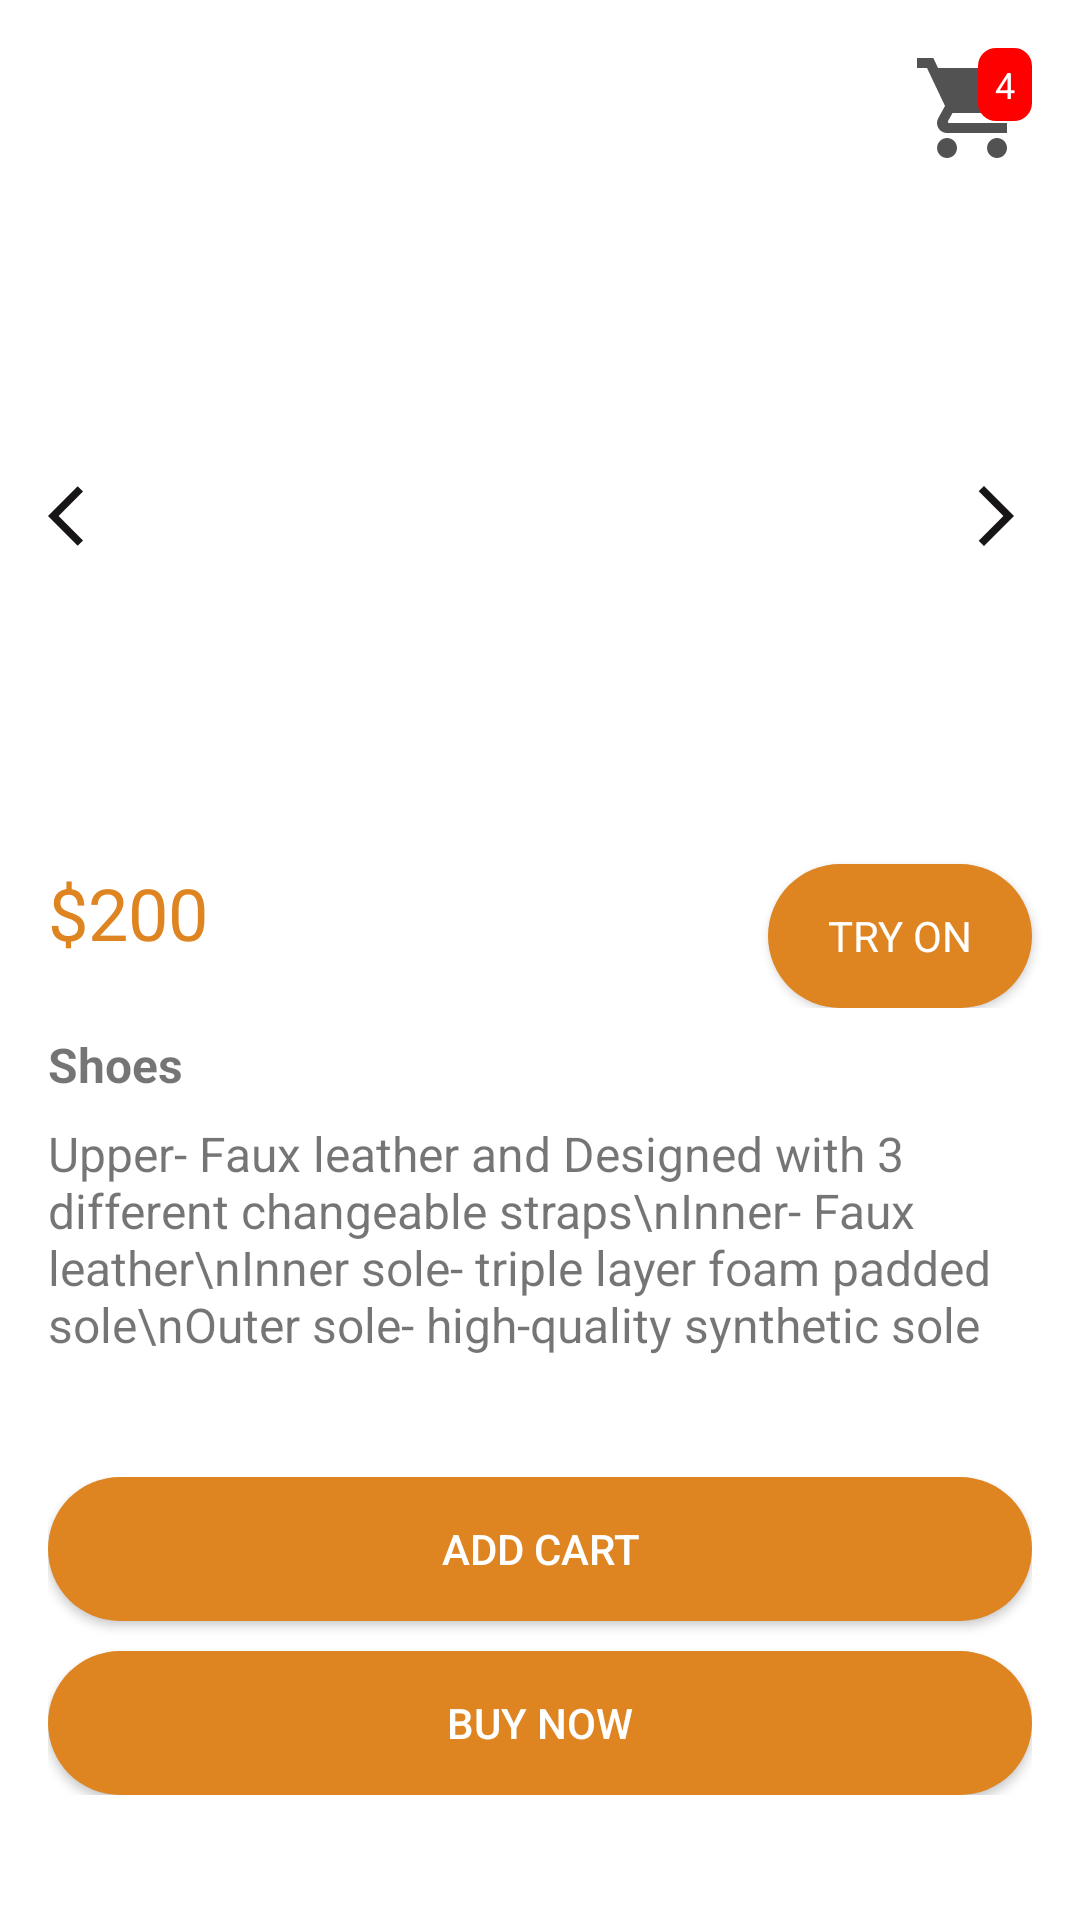

Icon click points for this 1080px×1920px phone screenshot, format point (x, y):
arrow back: point (65, 516)
arrow forward: point (996, 516)
shopping cart: point (974, 103)
